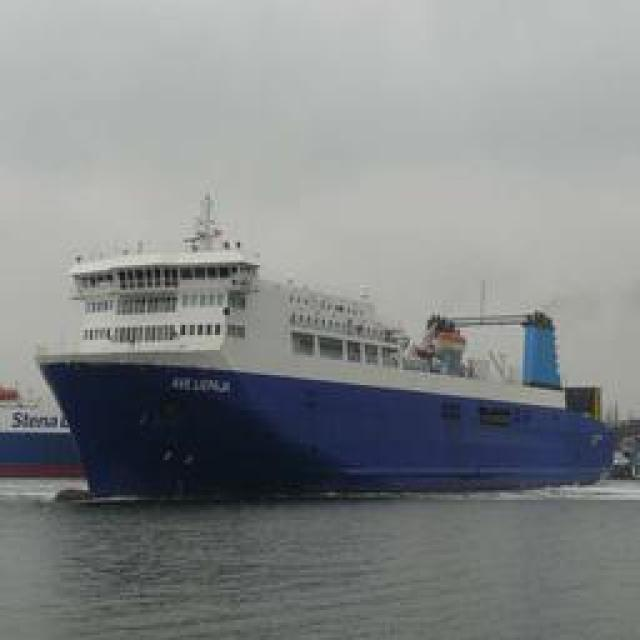CIV_Ship: (39, 188, 612, 500)
